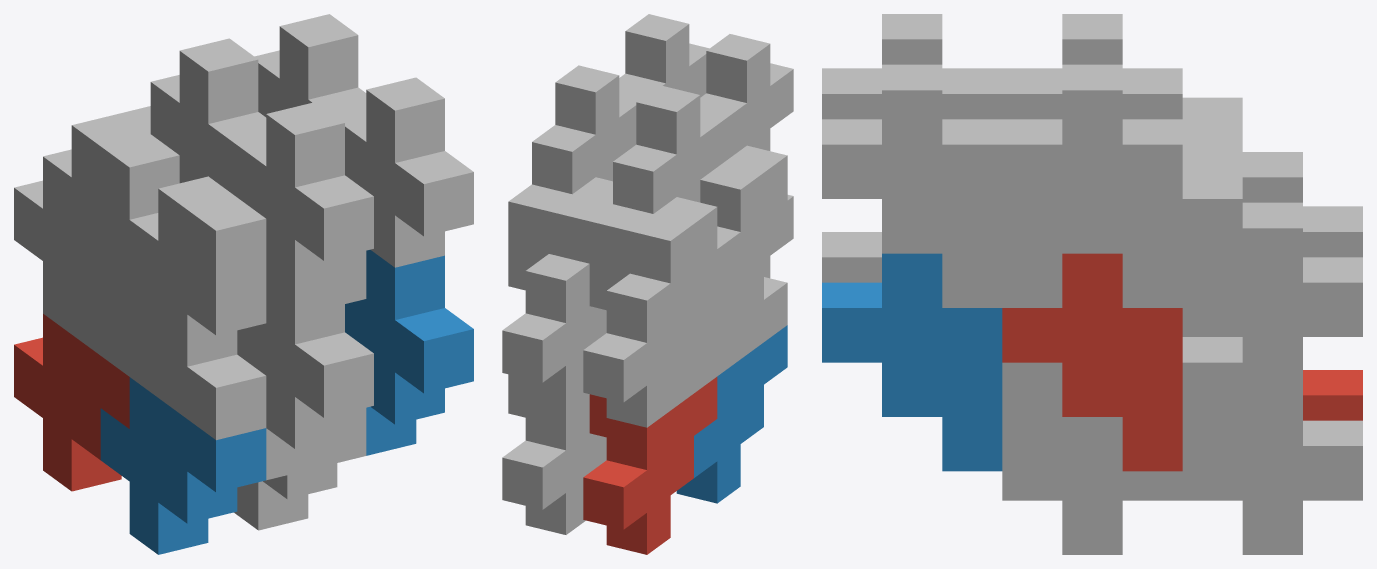
The model's file is tiling.obj.
3 views of the same model, side by side, from view 1: azimuth 30°, elevation 25°; view 2: azimuth 150°, elevation 25°; view 3: azimuth 270°, elevation 25° (orthographic). The views are drawn at different scales.
Visible parts, largest first — view 1: copy_2_domain_4, copy_2_domain_2, copy_2_domain_3, copy_2_domain_8, copy_1_domain_2, copy_2_domain_6, copy_1_domain_4, copy_1_domain_1, copy_1_domain_3, copy_2_domain_7, copy_1_domain_6, copy_2_domain_1 (+1 smaller); view 2: copy_1_domain_3, copy_2_domain_3, copy_1_domain_7, copy_2_domain_4, copy_1_domain_1, copy_2_domain_7, copy_1_domain_5, copy_1_domain_2, copy_1_domain_4, copy_2_domain_8, copy_2_domain_2, copy_2_domain_1; view 3: copy_2_domain_7, copy_2_domain_8, copy_1_domain_7, copy_1_domain_5, copy_2_domain_6, copy_2_domain_5, copy_1_domain_6, copy_2_domain_3, copy_2_domain_4, copy_1_domain_3, copy_1_domain_8, copy_1_domain_1 (+1 smaller).
Boxes of the visible parts, <box> form: copy_2_domain_4: <box>158,102,373,291</box>; copy_2_domain_2: <box>158,271,373,480</box>; copy_2_domain_3: <box>71,38,266,219</box>; copy_2_domain_8: <box>341,77,473,267</box>; copy_1_domain_2: <box>100,377,266,554</box>; copy_2_domain_6: <box>345,249,473,455</box>; copy_1_domain_4: <box>100,213,266,397</box>; copy_1_domain_1: <box>14,314,129,491</box>; copy_1_domain_3: <box>14,106,150,333</box>; copy_2_domain_7: <box>254,14,366,119</box>; copy_1_domain_6: <box>234,408,366,530</box>; copy_2_domain_1: <box>71,282,129,376</box>; copy_1_domain_3: <box>583,204,717,427</box>; copy_2_domain_3: <box>613,85,723,283</box>; copy_1_domain_7: <box>502,184,606,407</box>; copy_2_domain_4: <box>700,34,793,231</box>; copy_1_domain_1: <box>583,377,717,554</box>; copy_2_domain_7: <box>532,65,639,263</box>; copy_1_domain_5: <box>502,374,606,534</box>; copy_1_domain_2: <box>676,325,787,503</box>; copy_1_domain_4: <box>694,198,787,375</box>; copy_2_domain_8: <box>619,14,709,99</box>; copy_2_domain_2: <box>740,195,793,358</box>; copy_2_domain_1: <box>670,334,717,409</box>; copy_2_domain_7: <box>1002,64,1242,307</box>; copy_2_domain_8: <box>822,64,1002,307</box>; copy_1_domain_7: <box>1182,173,1362,391</box>; copy_1_domain_5: <box>1182,337,1362,554</box>; copy_2_domain_6: <box>822,253,1002,471</box>; copy_2_domain_5: <box>1002,253,1182,471</box>; copy_1_domain_6: <box>1002,362,1182,554</box>; copy_2_domain_3: <box>1002,14,1242,122</box>; copy_2_domain_4: <box>822,14,1002,119</box>; copy_1_domain_3: <box>1182,123,1362,257</box>; copy_1_domain_8: <box>1002,199,1062,307</box>; copy_1_domain_1: <box>1303,370,1362,420</box>.
Bounding box in the file's own units: 4 × 9 × 9.
